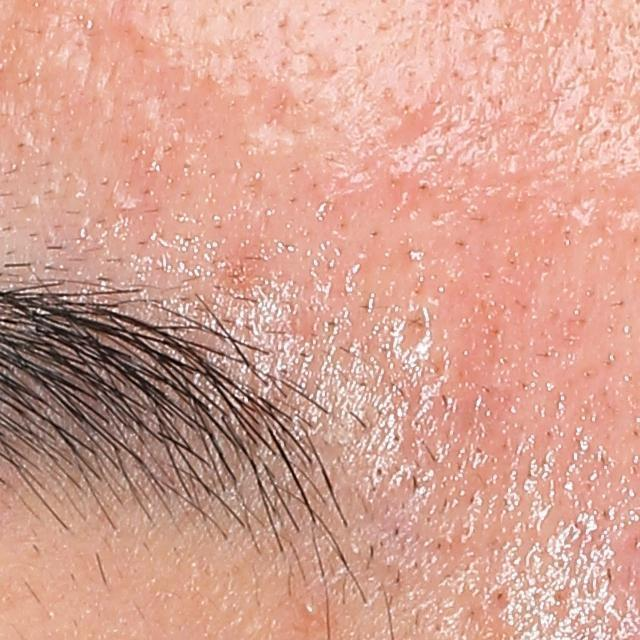atrophic_scar: (251, 82, 305, 150), (386, 305, 431, 369)
comedo: (302, 604, 319, 619)
